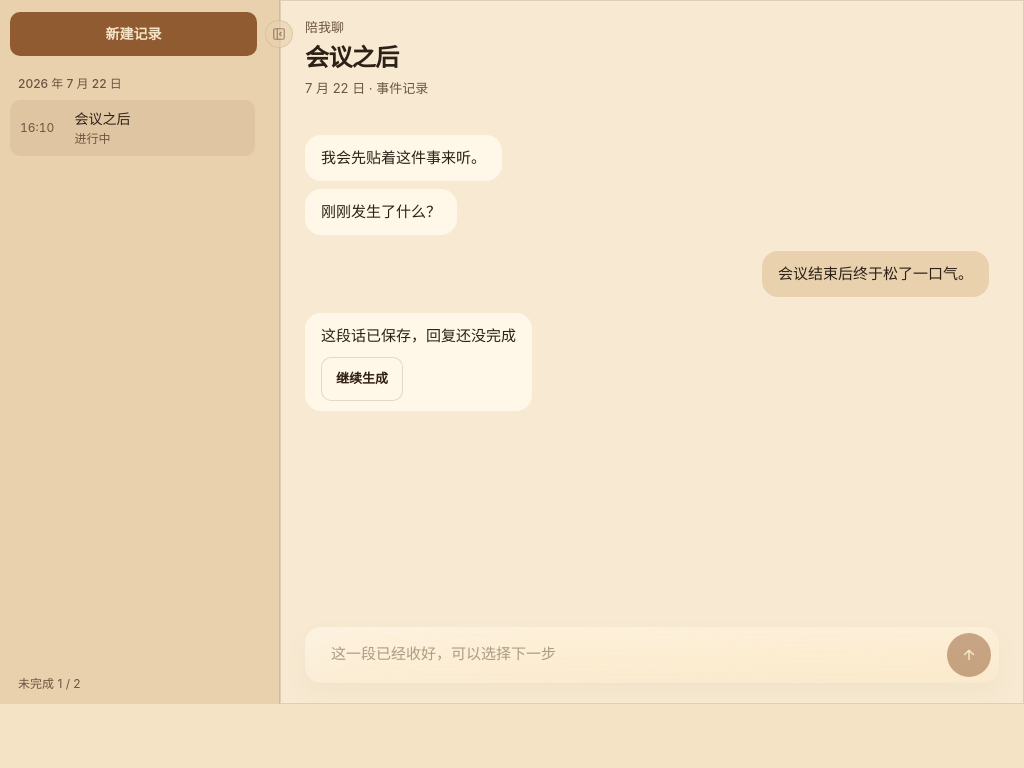
EventCenteredInterviewWorkspace › resumes a saved turn after refresh with the same client turn id and no duplicate user bubble
Expected: the text "会议结束后终于松了一口气。" is shown once, [778, 261, 973, 287]
Click the button "继续生成" at (362, 379), box [321, 357, 403, 401]
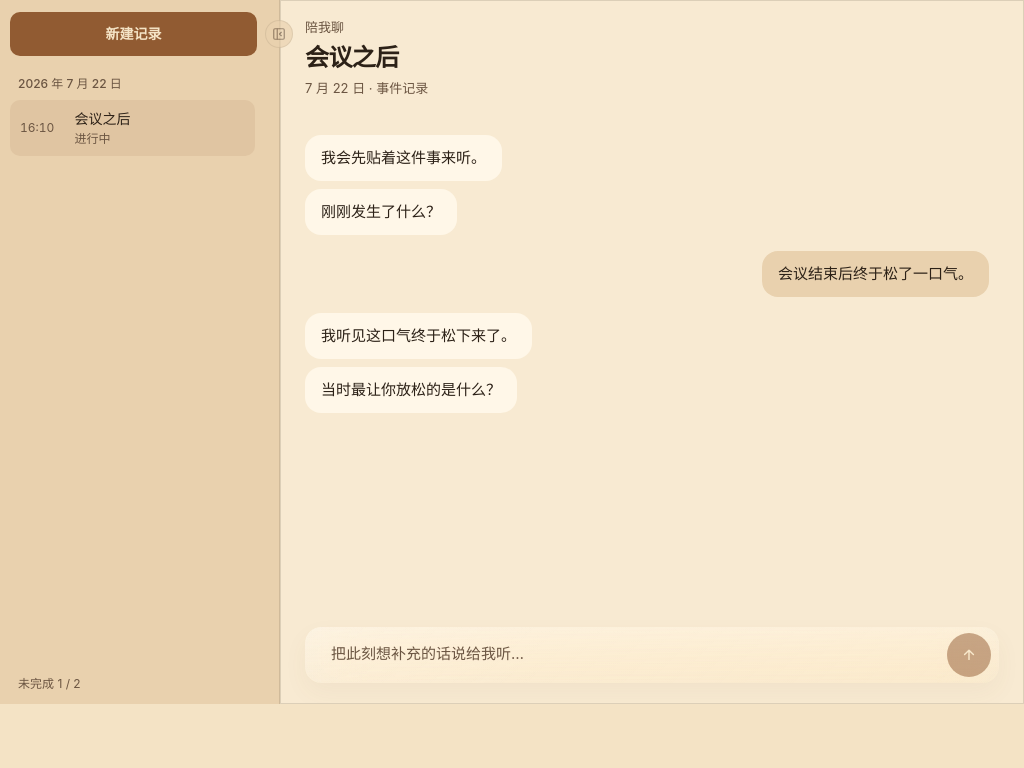
Expected: the text "会议结束后终于松了一口气。" is shown once, [778, 261, 973, 287]
Now the button "继续生成" is gone
